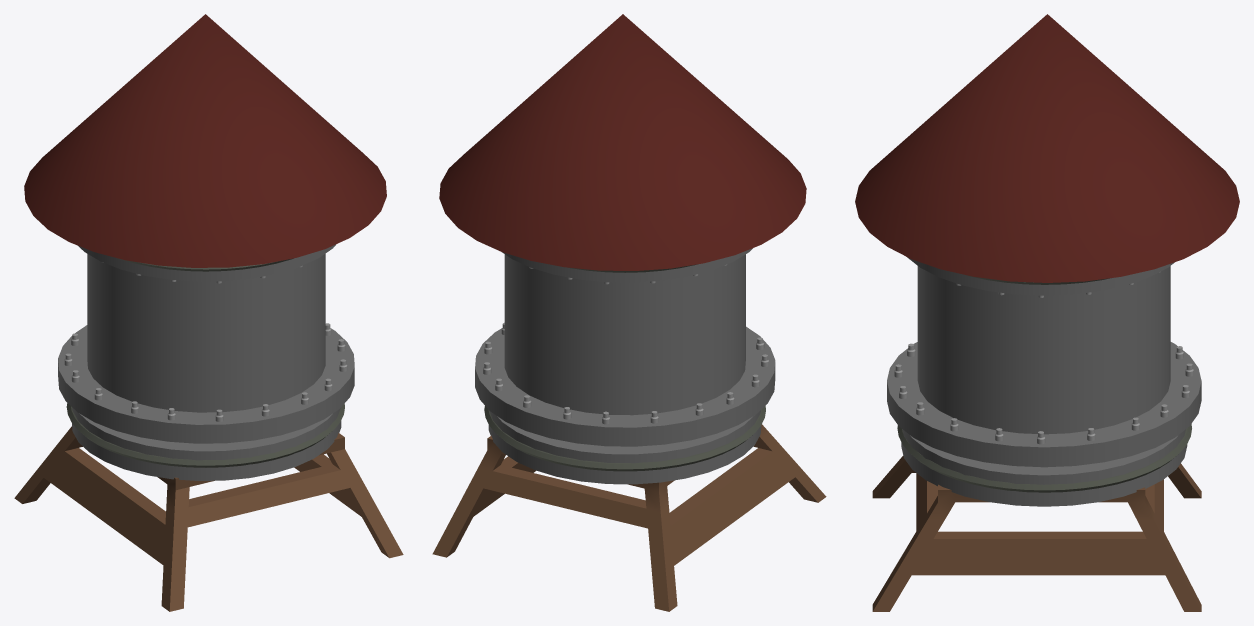
File: WaterReservior.fbx
The picture shows the model from 3 angles, left to right: view 1: azimuth 30°, elevation 25°; view 2: azimuth 150°, elevation 25°; view 3: azimuth 270°, elevation 25°; orthographic projection. The views are drawn at different scales.
Parts seen in each view (by area): view 1: Prefab1.002; view 2: Prefab1.002; view 3: Prefab1.002.
Part boxes in pixels (bbox=[...]): Prefab1.002: bbox=[14, 14, 403, 611]; Prefab1.002: bbox=[432, 14, 826, 611]; Prefab1.002: bbox=[855, 14, 1239, 611].
Size of the model in its own units: 550 by 848 by 550.
